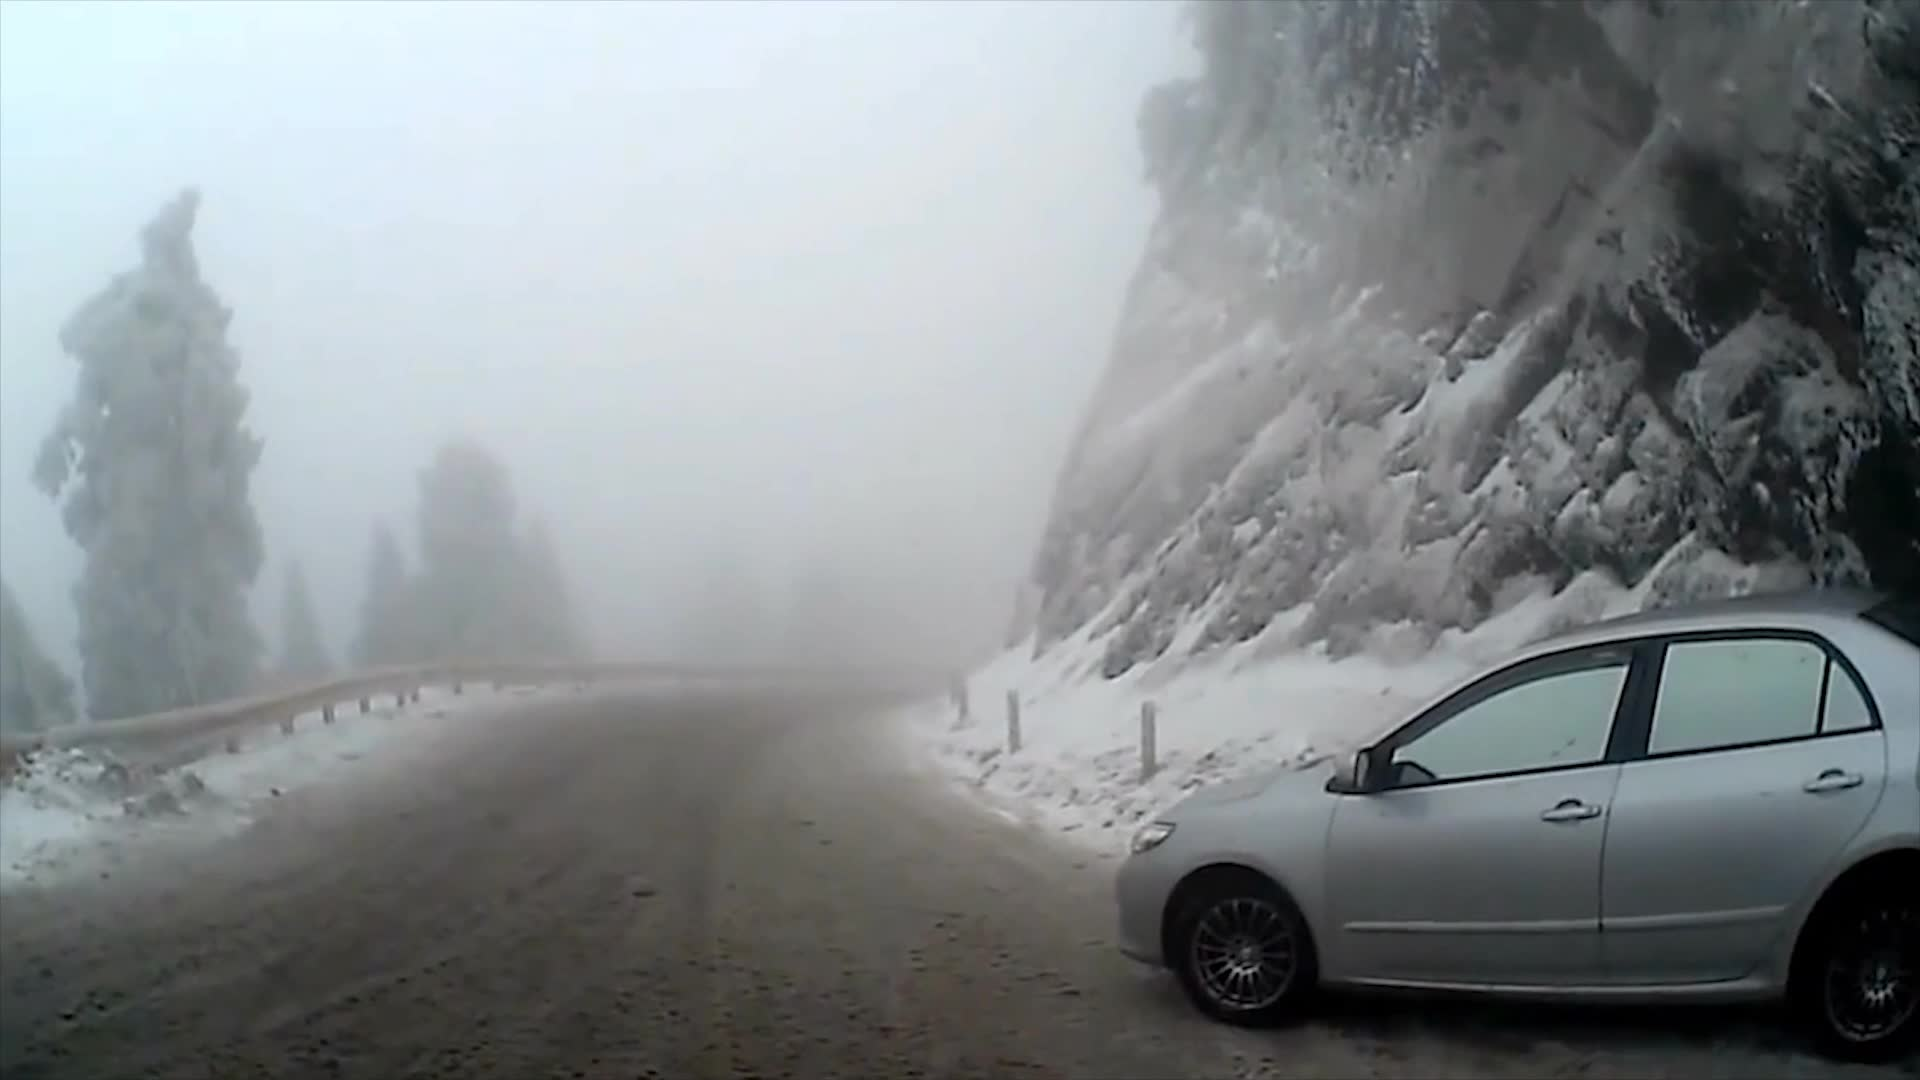vehicle: (1112, 583, 1920, 1064)
